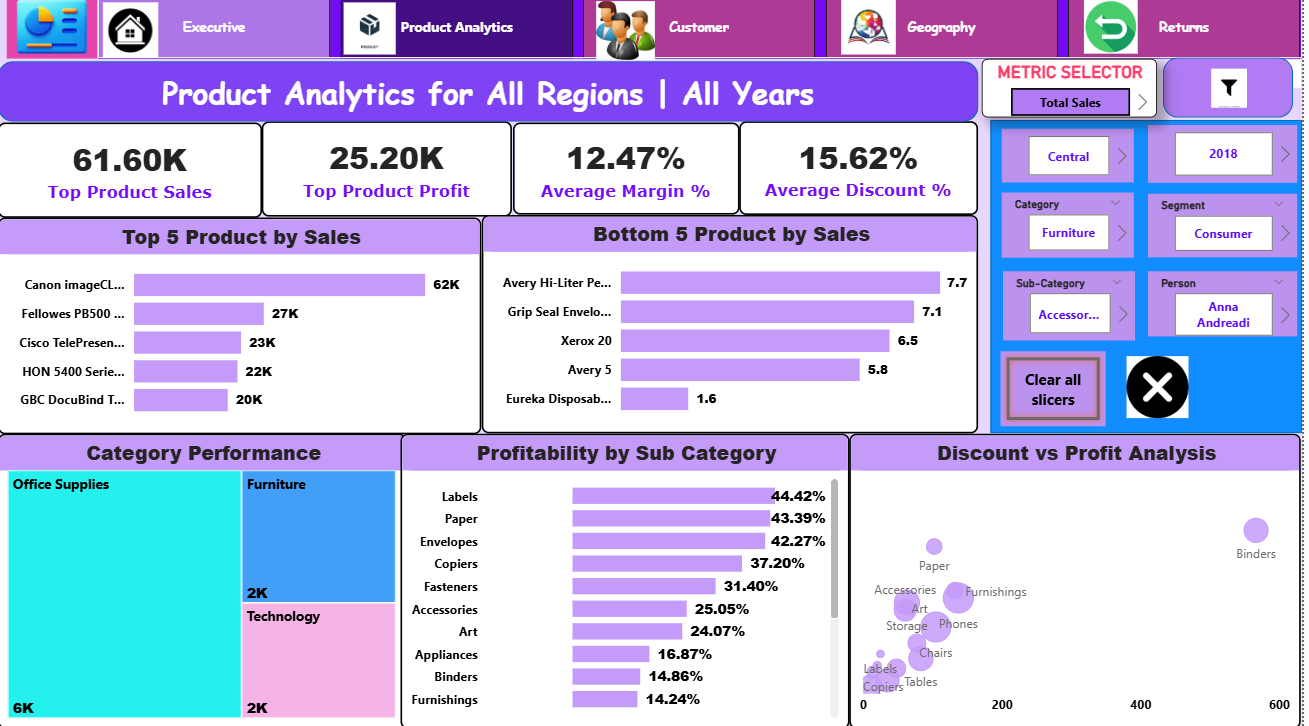

What the dashboard file says about the page in this screenshot:
{"tool":"powerbi","page":{"name":"Product Analytics","canvas":[1280,720],"ordinal":1},"visuals":[{"type":"shape","box":[974.5,123.1,306,307.4],"z":0,"group":"g1"},{"type":"card","fields":{"Values":["Measure.Top Product Sales"]},"box":[0,124.9,259.3,93.3],"z":0},{"type":"card","fields":{"Values":["Measure.Top Product Profit"]},"box":[259.3,123.5,245.6,93.3],"z":1000},{"type":"slicer","fields":{"Values":["Orders.Region"]},"box":[985.6,131.9,129.4,52.7],"z":1000,"group":"g1"},{"type":"card","fields":{"Values":["Measure.Average Margin %"]},"box":[505,124.9,222.3,90.6],"z":2000},{"type":"slicer","fields":{"Values":["Date Table.Date.Variation.Date Hierarchy.Year"]},"box":[1128.9,128.1,146,56.5],"z":2000,"group":"g1"},{"type":"card","fields":{"Values":["Measure.Average Discount %"]},"box":[727.3,123.5,234.6,91.9],"z":3000},{"type":"slicer","fields":{"Values":["Orders.Category"]},"box":[985.6,194.6,129.4,64],"z":3000,"group":"g1"},{"type":"slicer","fields":{"Values":["Orders.Segment"]},"box":[1128.9,195.9,146,62.7],"z":4000,"group":"g1"},{"type":"clusteredBarChart","title":"Top 5 Product by Sales","fields":{"Y":["Measure.Total Sales"],"Category":["Orders.Product Name"]},"box":[0,218.2,474.8,212.7],"z":4000},{"type":"pageNavigator","box":[97.9,0,1181.9,62.3],"z":5000},{"type":"slicer","fields":{"Values":["Orders.Sub-Category"]},"box":[987,271.1,129.4,67.7],"z":5000,"group":"g1"},{"type":"image","box":[98.1,0,64.5,68.3],"z":6000},{"type":"slicer","fields":{"Values":["People.Person"]},"box":[1128.9,271.1,146,64],"z":6000,"group":"g1"},{"type":"image","box":[328.9,2.5,72,60.8],"z":7000},{"type":"image","box":[1083,350.2,112.7,70.3],"z":7000,"group":"g1"},{"type":"image","box":[582.2,1.2,68.3,67],"z":8000},{"type":"actionButton","box":[984.5,349.9,103.5,73.6],"z":8000,"group":"g1"},{"type":"image","box":[821.5,0,65.2,63.8],"z":9000},{"type":"image","box":[1051.4,0,81.6,62.3],"z":10000},{"type":"image","box":[8.9,0,89,62.3],"z":11000},{"type":"shape","box":[1143.1,61.7,127.6,59],"z":12000},{"type":"image","box":[1182.9,67.2,50.8,48],"z":13000},{"type":"shape","box":[0,65.2,962.4,59.3],"z":14000},{"type":"group","id":"g1","title":"Filter Pane","box":[974.5,123.1,305.2,308.8],"z":15000},{"type":"barChart","title":"Bottom 5 Product by Sales","fields":{"Category":["Orders.Product Name"],"Y":["Measure.Total Sales"]},"box":[474.8,215.4,487.1,214.1],"z":16000},{"type":"treemap","title":"Category Performance","fields":{"Values":["Measure.Total Orders"],"Group":["Orders.Category"]},"box":[0,430.9,400.7,289.5],"z":17000},{"type":"barChart","title":"Profitability by Sub Category","fields":{"Category":["Orders.Sub-Category"],"Y":["Measure.Profit Margin %"]},"box":[395.2,430.9,440.5,289.5],"z":18000},{"type":"scatterChart","title":"Discount vs Profit Analysis","fields":{"Y":["Measure.Total Orders"],"X":["Sum(Orders.Discount)"],"Category":["Orders.Sub-Category"],"Size":["Measure.Total Sales"]},"box":[835.7,430.9,443.2,289.5],"z":19000},{"type":"slicer","title":"METRIC SELECTOR","fields":{"Values":["Parameter.Parameter"]},"box":[965.4,62.3,172,57.8],"z":21000}]}

Visuals, with their boxes in screenshot pixels (x1, y1, x2, y2), scaled from the page's 1280x720 canvas onto the 1309x726 screenshot:
shape: (997,124,1308,434)
card - Measure.Top Product Sales: (0,126,265,220)
card - Measure.Top Product Profit: (265,125,516,219)
slicer - Orders.Region: (1008,133,1140,186)
card - Measure.Average Margin %: (516,126,744,217)
slicer - Date Table.Date.Variation.Date Hierarchy.Year: (1154,129,1304,186)
card - Measure.Average Discount %: (744,125,984,217)
slicer - Orders.Category: (1008,196,1140,261)
slicer - Orders.Segment: (1154,198,1304,261)
"Top 5 Product by Sales" clusteredBarChart: (0,220,486,434)
pageNavigator: (100,0,1308,63)
slicer - Orders.Sub-Category: (1009,273,1142,342)
image: (100,0,166,69)
slicer - People.Person: (1154,273,1304,338)
image: (336,3,410,64)
image: (1108,353,1223,424)
image: (595,1,665,69)
actionButton: (1007,353,1113,427)
image: (840,0,907,64)
image: (1075,0,1159,63)
image: (9,0,100,63)
shape: (1169,62,1299,122)
image: (1210,68,1262,116)
shape: (0,66,984,126)
"Filter Pane" group: (997,124,1308,435)
"Bottom 5 Product by Sales" barChart: (486,217,984,433)
"Category Performance" treemap: (0,434,410,725)
"Profitability by Sub Category" barChart: (404,434,855,725)
"Discount vs Profit Analysis" scatterChart: (855,434,1308,725)
"METRIC SELECTOR" slicer: (987,63,1163,121)
